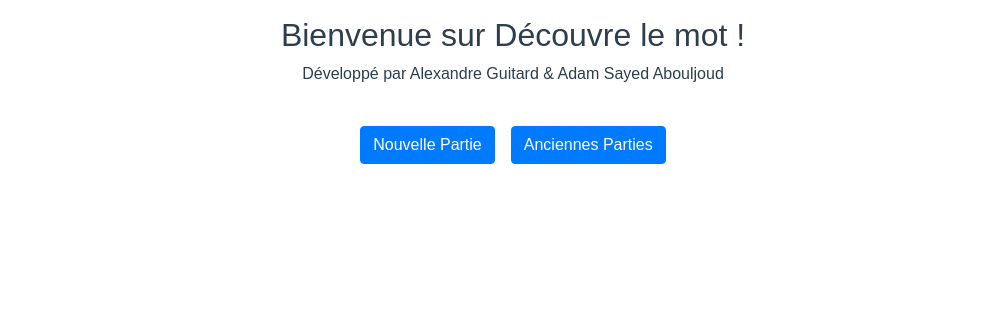
Make sure our todo list app is working well › Lauch stats page
Click the button with id "stats" at (589, 145), box left=511, top=126, right=666, bottom=164
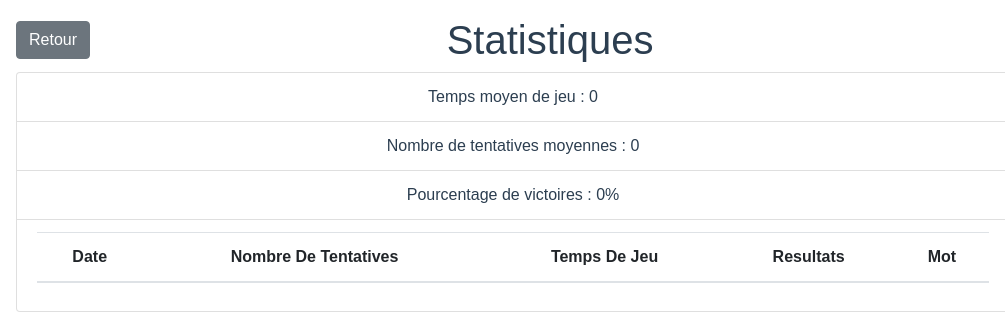
Expected: the element with id "statsId" is shown
